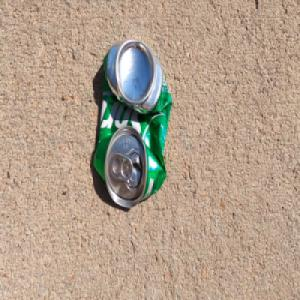SodaCan: (92, 37, 172, 211)
